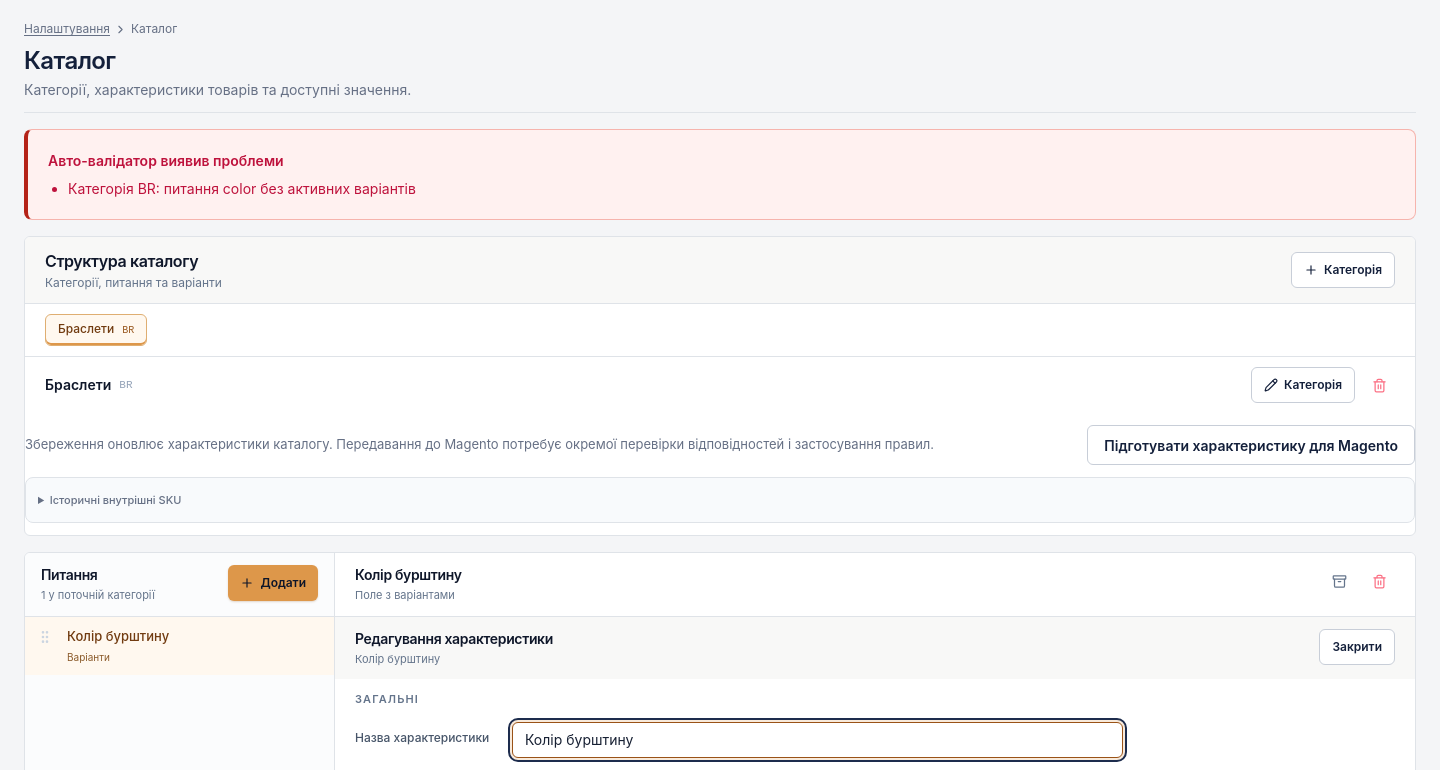
native category edit keeps its stable code and hides only historical branch encoding
This screenshot has width=1440, height=770.
Expected: the field labelled "Назва характеристики" is shown, [512, 722, 1123, 758]
Click the 2nd button "Категорія": click(1303, 385) [1251, 367, 1355, 403]
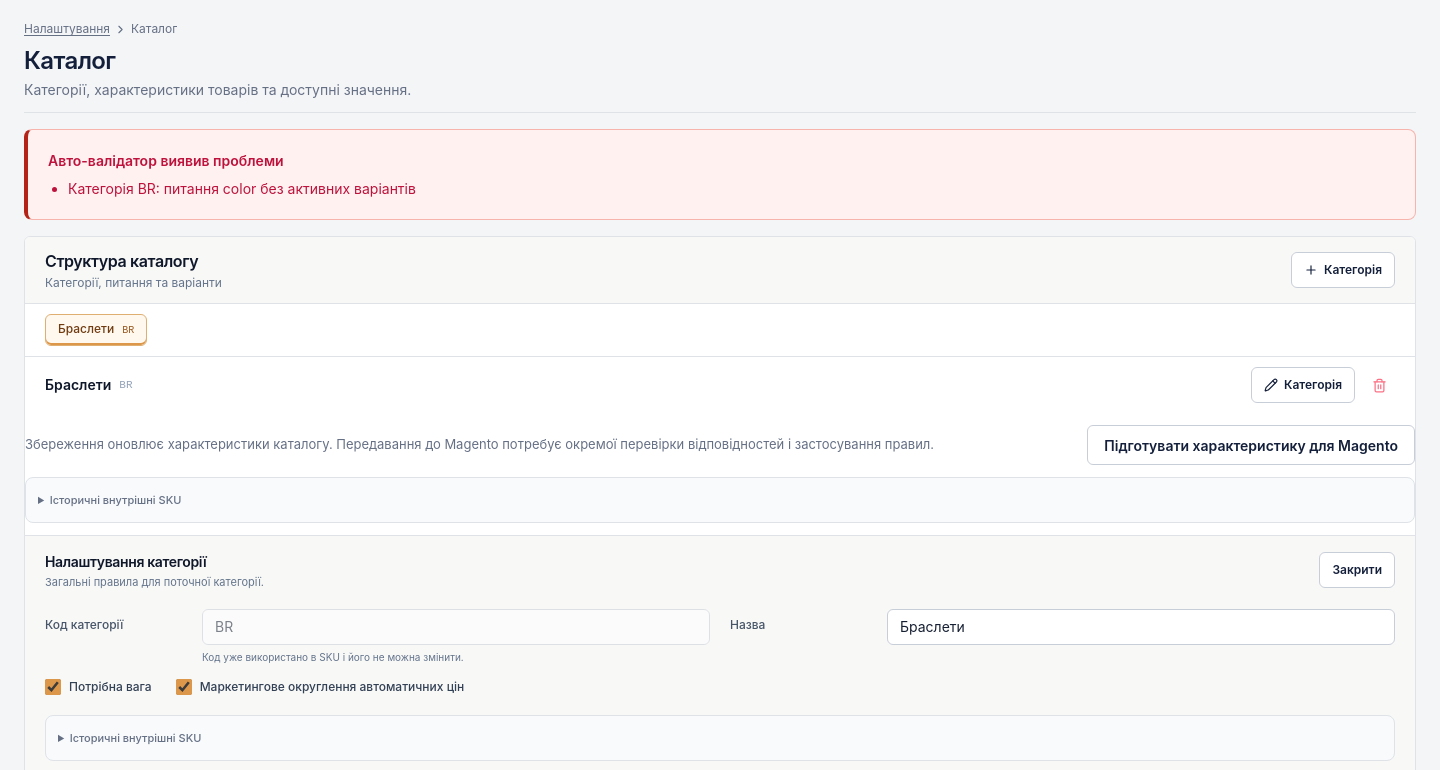
Expected: the field labelled "Код категорії" holds "BR", [202, 608, 710, 644]
Expected: the field labelled "Код категорії" is disabled, [202, 608, 710, 644]
Expected: the checkbox labelled "Потрібна вага" is checked, [45, 678, 61, 694]
